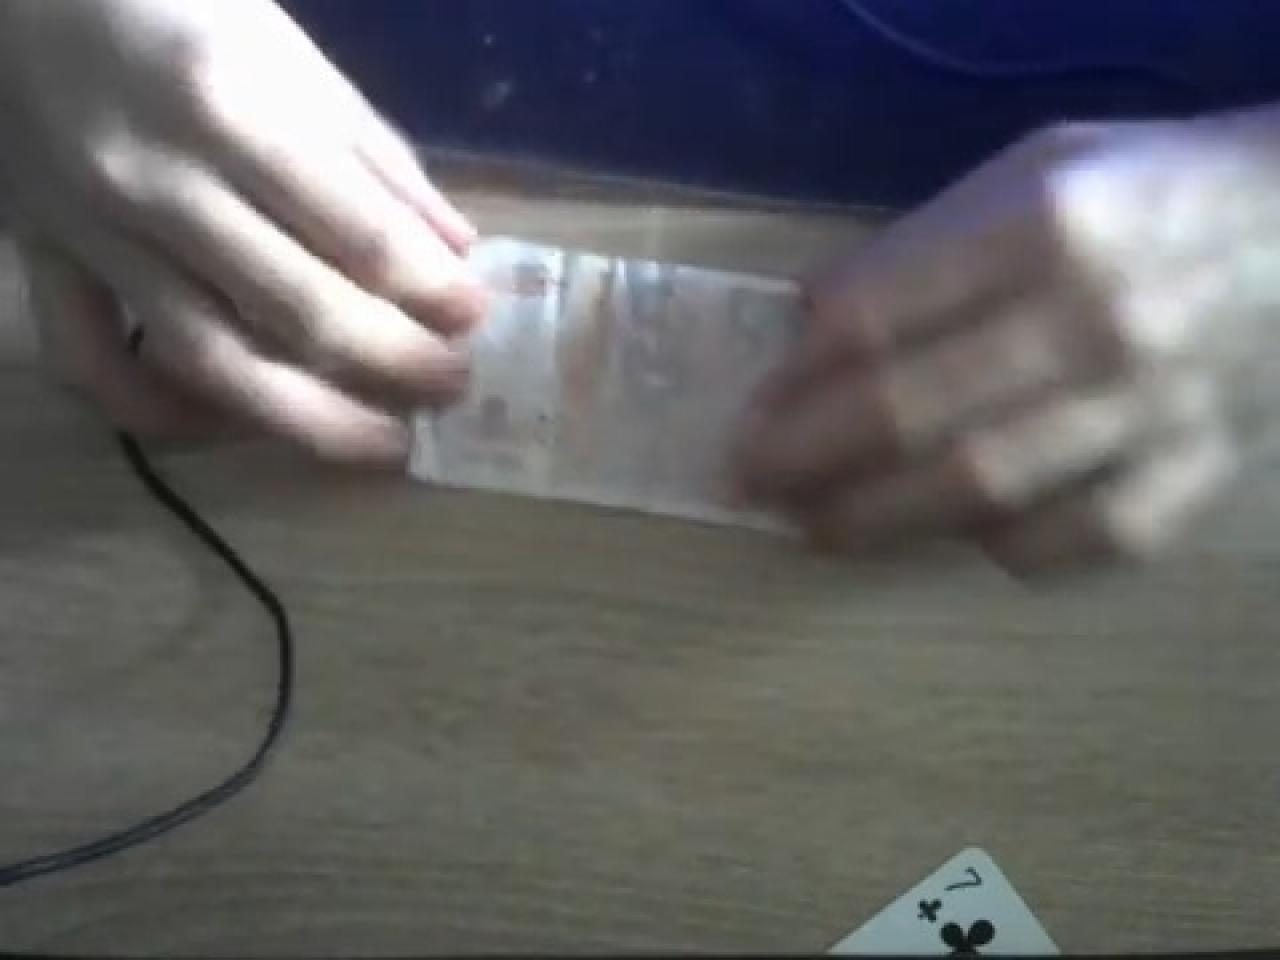5leva: (403, 237, 800, 533)
